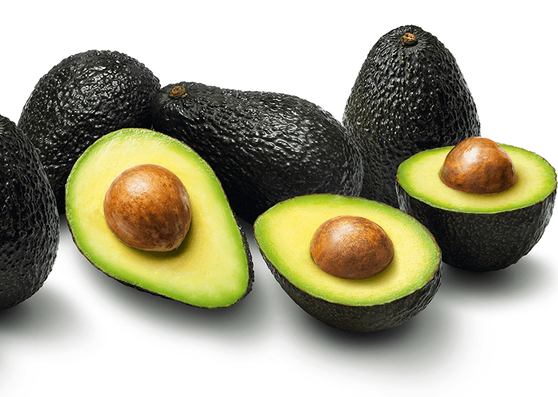avocado: (154, 76, 371, 218), (350, 25, 484, 209)
